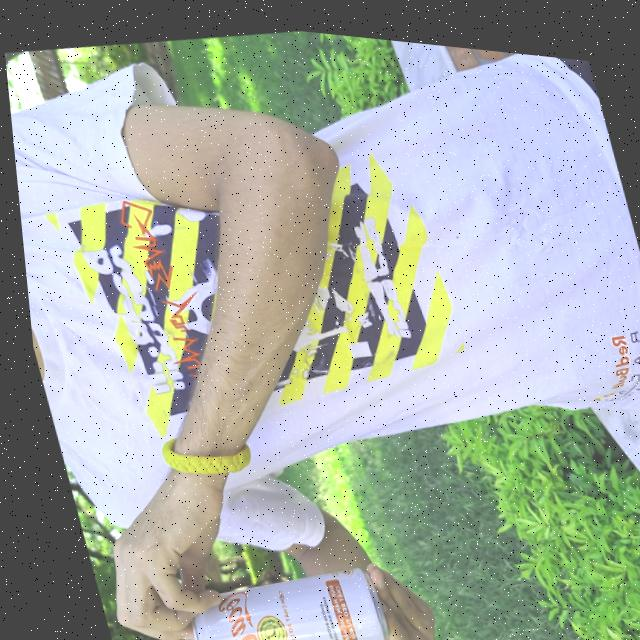Coca Cola Plus: (169, 549, 386, 640)
